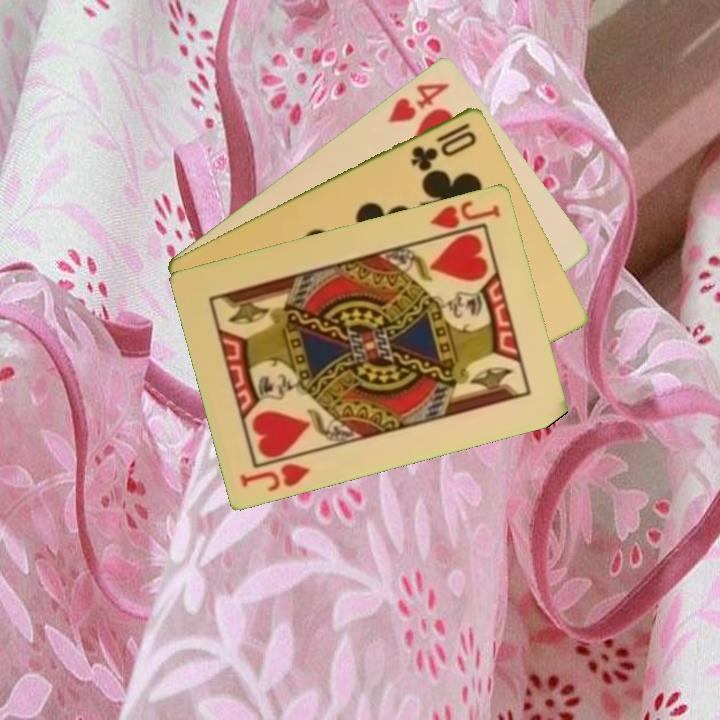10c: (407, 118, 480, 173)
4h: (384, 78, 452, 126)
Jh: (426, 196, 504, 231), (236, 459, 313, 494)
